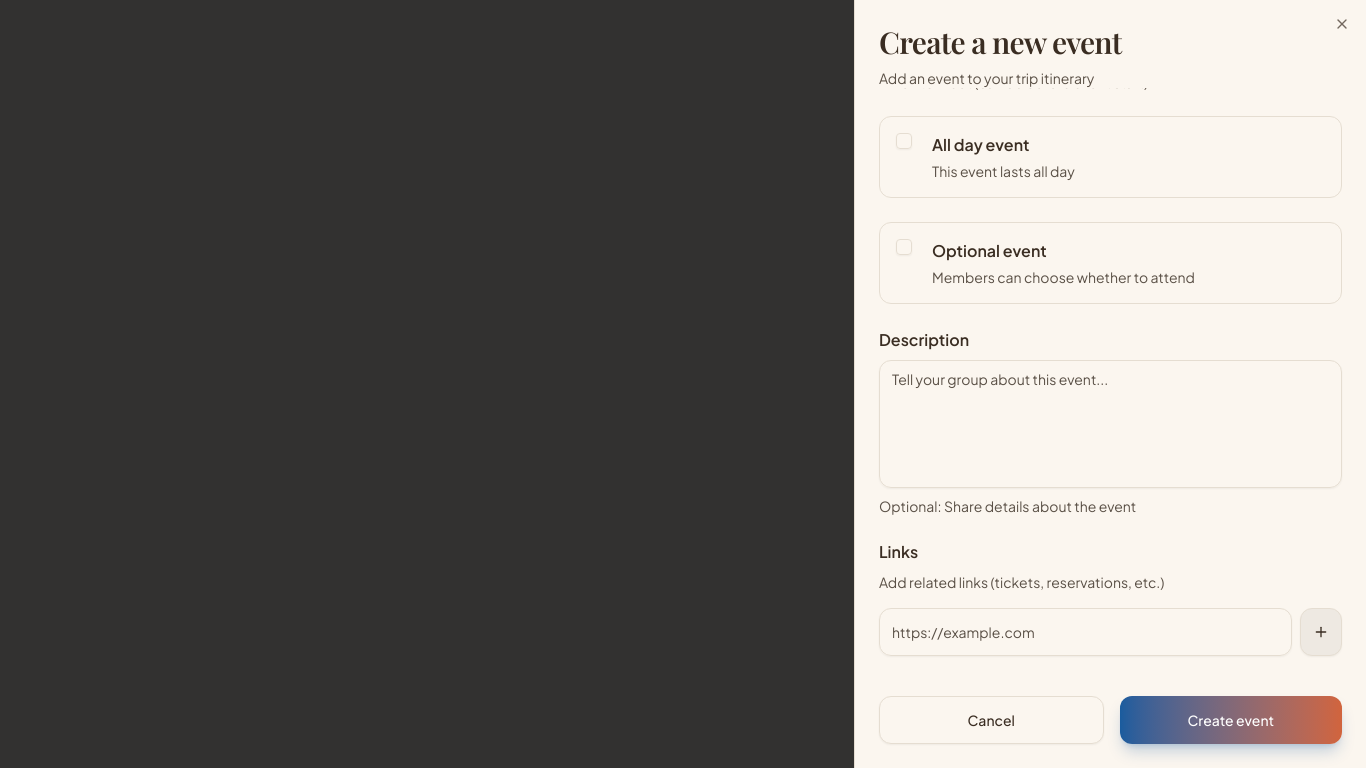
CreateEventDialog › Links field › allows adding valid link
The image size is (1366, 768).
(page scrolled)
Step 1. Click the field named "link url" → (1086, 632), box [879,608,1292,656]
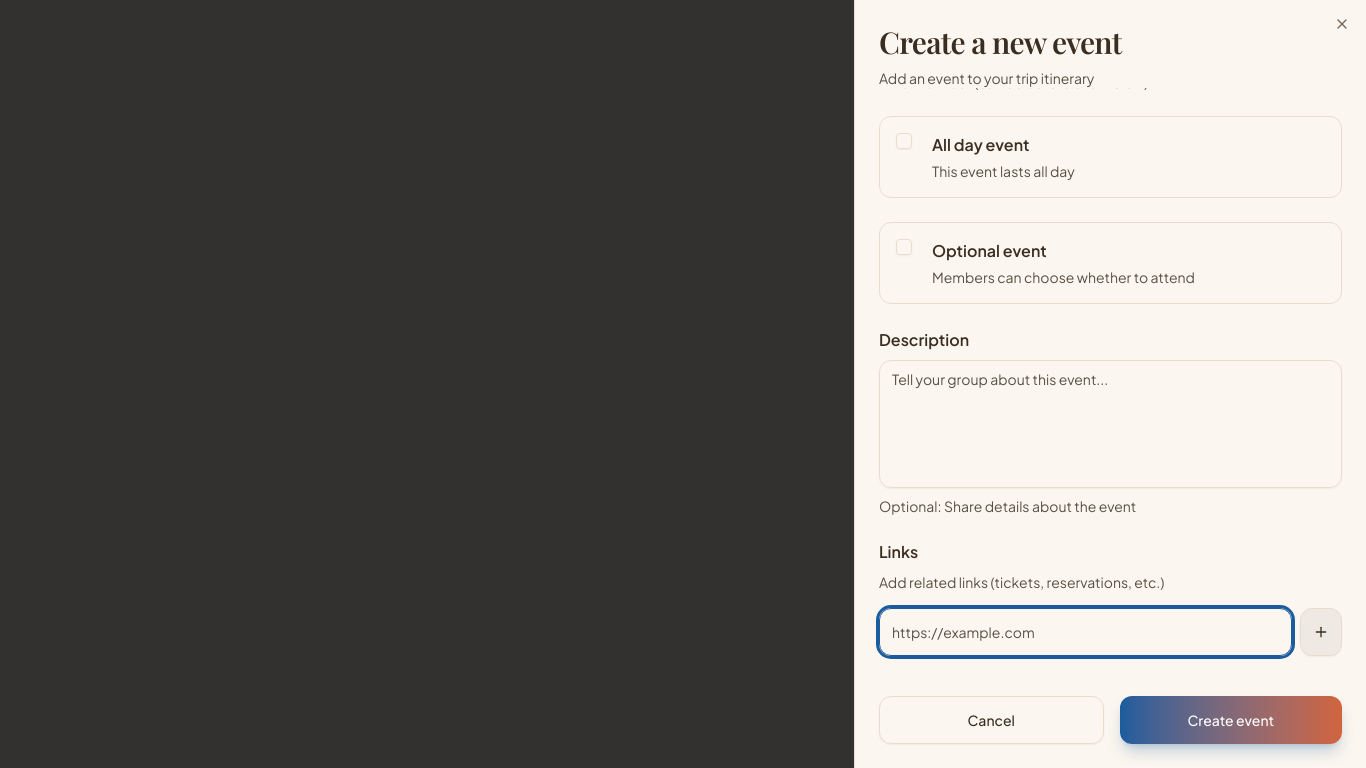
Step 2. Type keys "https://example.com"
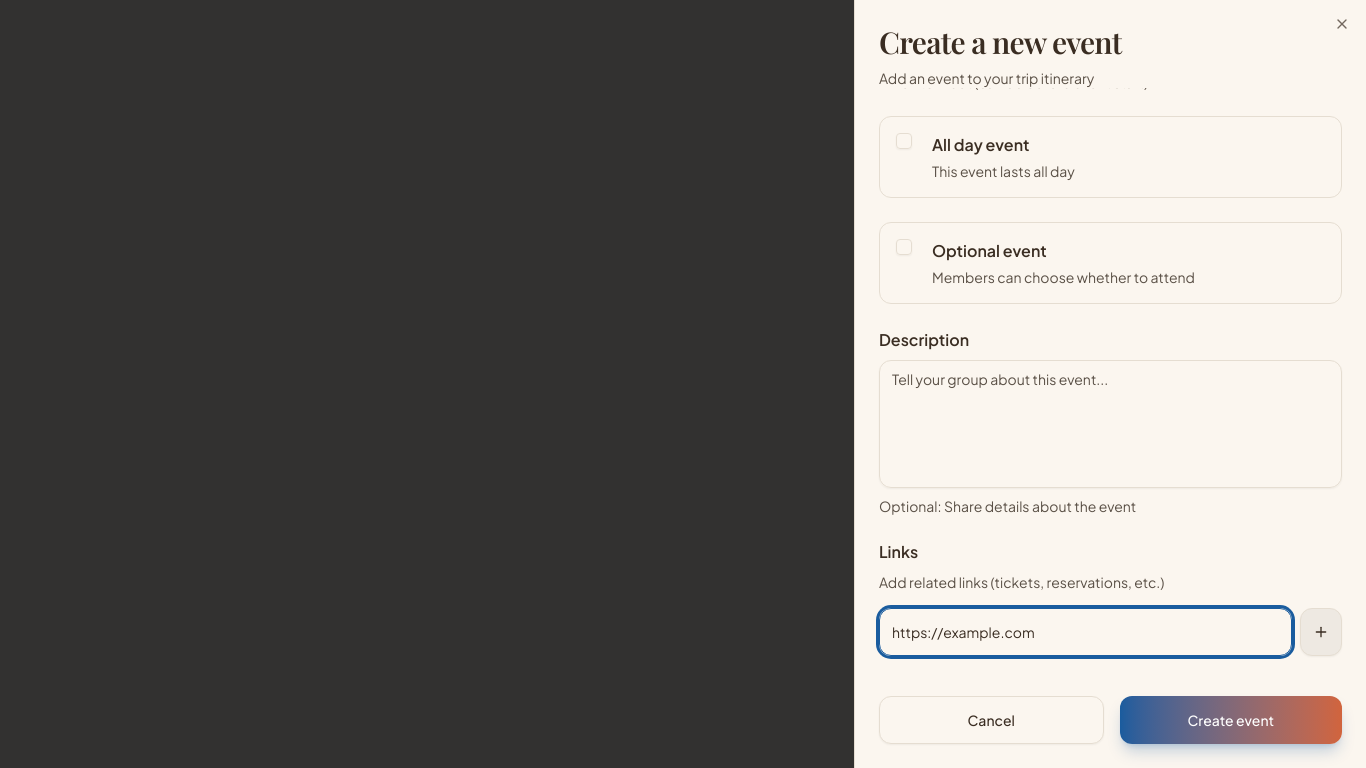
Step 3. Click the button named "add link" → (1321, 632), box [1300,608,1342,656]
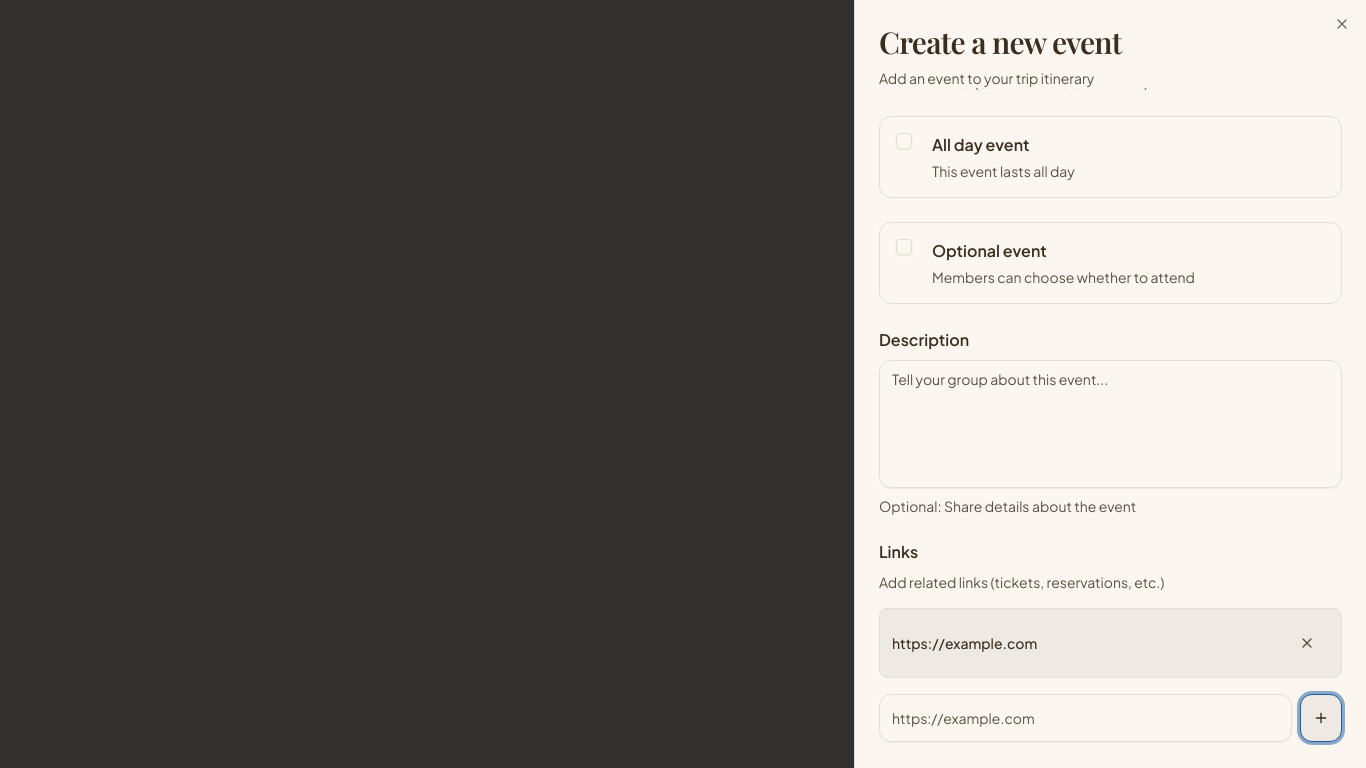
Now the text "https://example.com" is shown, box [892,633,1037,653]
